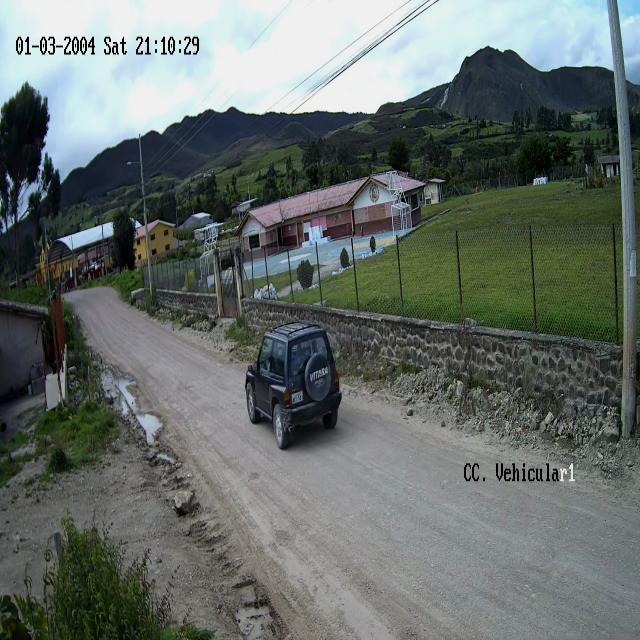SUV: (247, 324, 342, 452)
